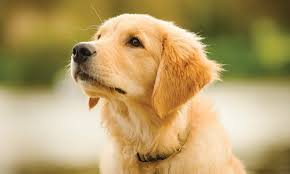Bulldog: (55, 1, 250, 174)
